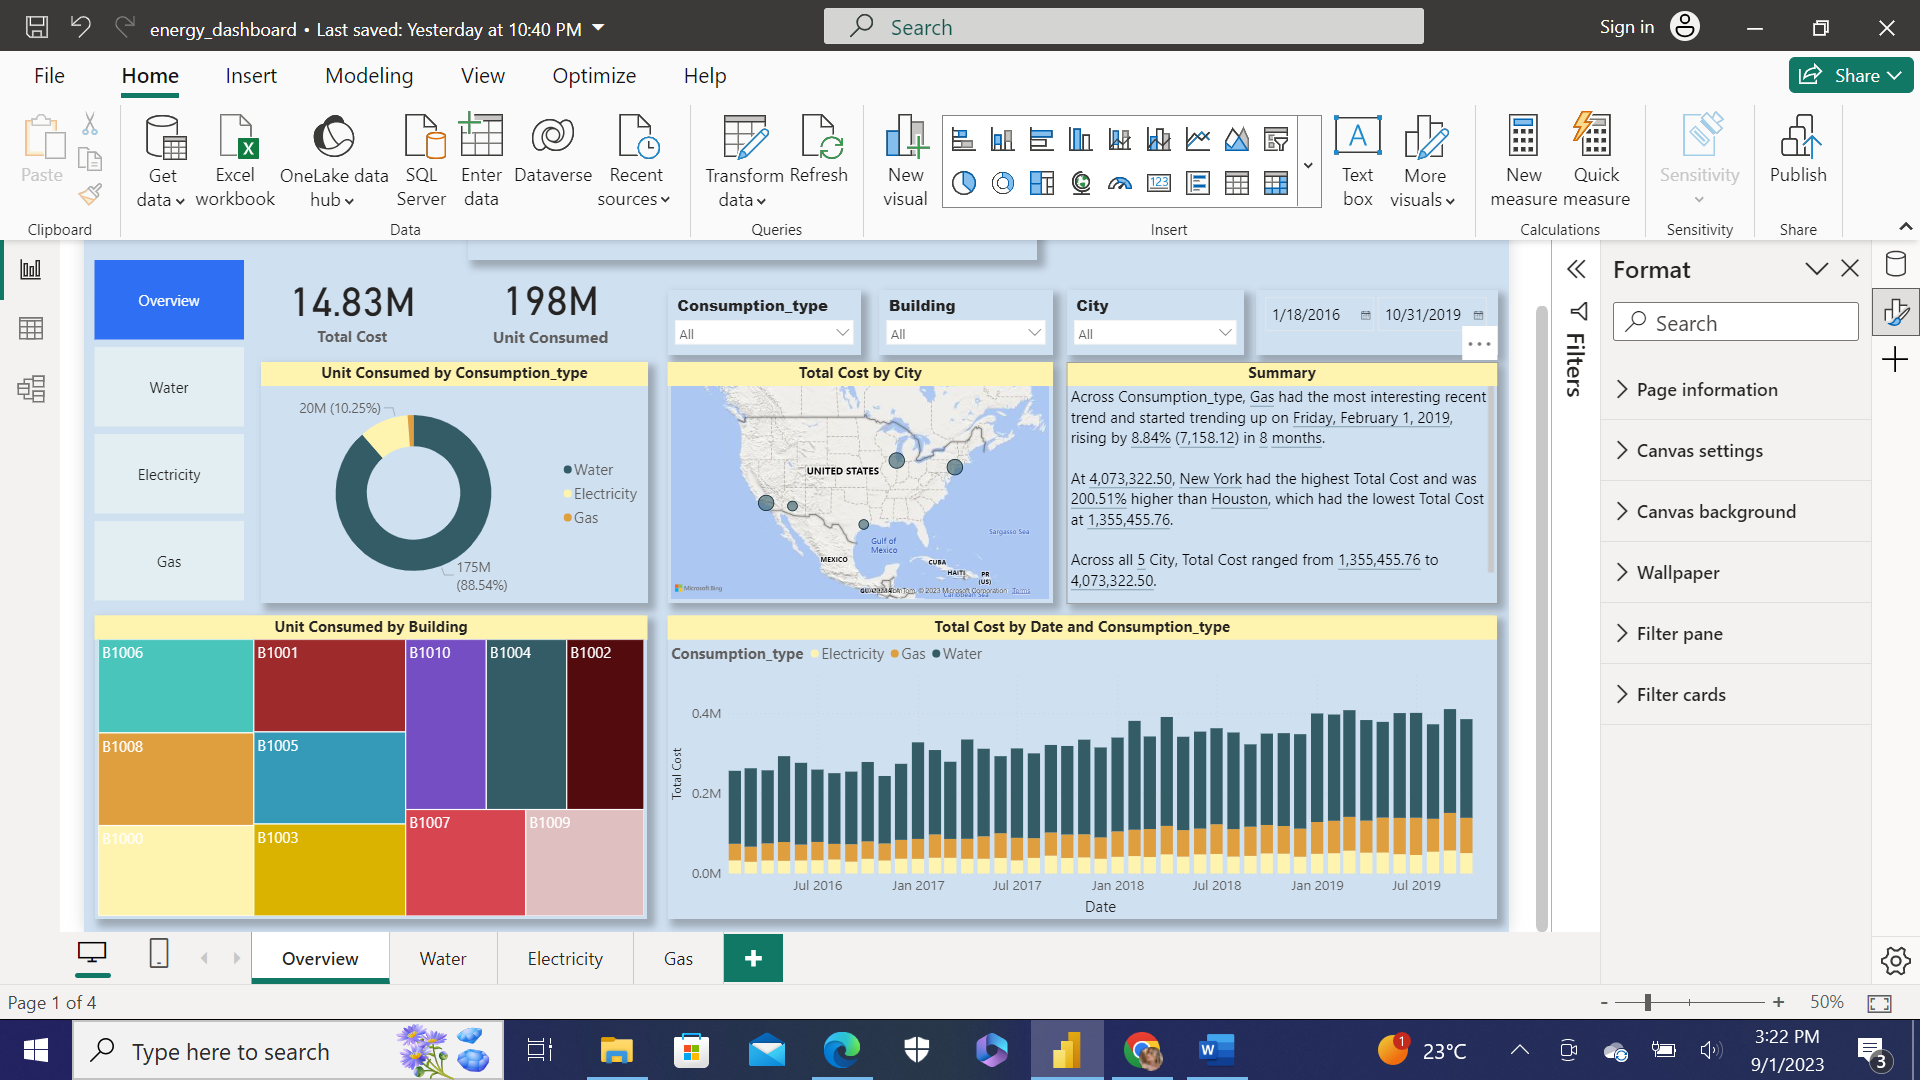

This screenshot's page, from the dashboard's own definition file:
{"tool":"powerbi","page":{"name":"Overview","canvas":[1900,1000],"ordinal":0},"visuals":[{"type":"actionButton","title":"Energy Consumption Report","box":[511.9,0,759.2,104.1],"z":0},{"type":"card","fields":{"Values":["Energy Consumptions.Total Cost"]},"box":[236.4,104.1,243,123.6],"z":1000},{"type":"card","fields":{"Values":["Energy Consumptions.Unit Consumed"]},"box":[494.6,104.1,256,123.6],"z":2000},{"type":"slicer","fields":{"Values":["Energy Consumptions.Consumption_type"]},"box":[778.7,143.2,258.1,86.8],"z":3000},{"type":"slicer","fields":{"Values":["Energy Consumptions.Building"]},"box":[1060.7,143.2,232.1,86.8],"z":4000},{"type":"slicer","fields":{"Values":["Building Master.City"]},"box":[1310.2,143.2,236.4,86.8],"z":5000},{"type":"slicer","fields":{"Values":["Energy Consumptions.Date"]},"box":[1561.8,143.2,323.2,86.8],"z":6000},{"type":"map","fields":{"Category":["Building Master.City"],"Size":["Energy Consumptions.Total Cost"]},"box":[778.7,240.8,514.1,321],"z":7000},{"type":"columnChart","fields":{"Y":["Energy Consumptions.Total Cost"],"Series":["Energy Consumptions.Consumption_type"],"Category":["Energy Consumptions.Date"]},"box":[778.7,577,1106.3,405.6],"z":8000},{"type":"textbox","title":"Summary","box":[1310.2,240.8,574.8,321],"z":9000},{"type":"donutChart","fields":{"Y":["Energy Consumptions.Unit Consumed"],"Category":["Energy Consumptions.Consumption_type"]},"box":[236,240,516,322],"z":10000},{"type":"treemap","fields":{"Values":["Energy Consumptions.Unit Consumed"],"Group":["Energy Consumptions.Building"]},"box":[13,577,737.5,405.6],"z":11000},{"type":"shape","box":[13,80.3,223.4,481.6],"z":12000},{"type":"pageNavigator","box":[13,104.1,199.6,457.7],"z":13000}]}

Visuals, with their boxes on the page's 1900x1000 design canvas (x1, y1, x2, y2). These are canvas units, not pixel positions in the 1920x1080 screenshot, which may show the page scaled, cropped or inside an application window:
"Energy Consumption Report" actionButton: (512, 0, 1271, 104)
card - Energy Consumptions.Total Cost: (236, 104, 479, 228)
card - Energy Consumptions.Unit Consumed: (495, 104, 751, 228)
slicer - Energy Consumptions.Consumption_type: (779, 143, 1037, 230)
slicer - Energy Consumptions.Building: (1061, 143, 1293, 230)
slicer - Building Master.City: (1310, 143, 1547, 230)
slicer - Energy Consumptions.Date: (1562, 143, 1885, 230)
map - Building Master.City x Energy Consumptions.Total Cost: (779, 241, 1293, 562)
columnChart - Energy Consumptions.Total Cost x Energy Consumptions.Consumption_type: (779, 577, 1885, 983)
"Summary" textbox: (1310, 241, 1885, 562)
donutChart - Energy Consumptions.Unit Consumed x Energy Consumptions.Consumption_type: (236, 240, 752, 562)
treemap - Energy Consumptions.Unit Consumed x Energy Consumptions.Building: (13, 577, 750, 983)
shape: (13, 80, 236, 562)
pageNavigator: (13, 104, 213, 562)
